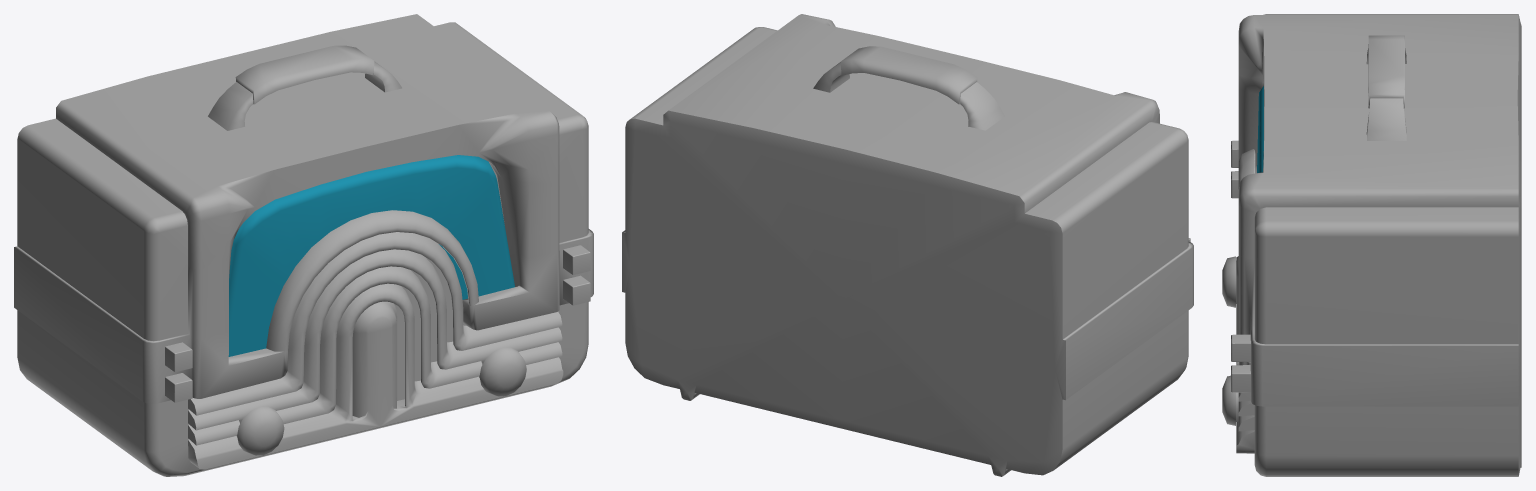
The model's file is SM_Radio_01.fbx.
3 views of the same model, side by side, from view 1: azimuth 30°, elevation 25°; view 2: azimuth 150°, elevation 25°; view 3: azimuth 270°, elevation 25° (orthographic).
Visible parts, largest first — view 1: SM_Radio_01; view 2: SM_Radio_01; view 3: SM_Radio_01.
Part boxes in pixels (box(x1,y1,x2,y2)): SM_Radio_01: box(14, 14, 593, 476); SM_Radio_01: box(622, 14, 1193, 476); SM_Radio_01: box(1222, 14, 1521, 476).
Bounding box in the file's own units: 52.82 × 37.24 × 30.45.
